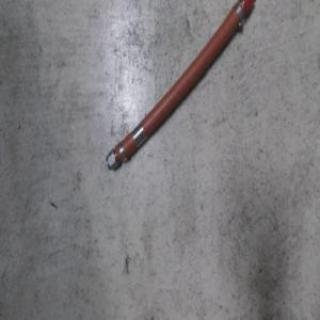Hosetrack_idkeyframe: (102, 0, 254, 175)
